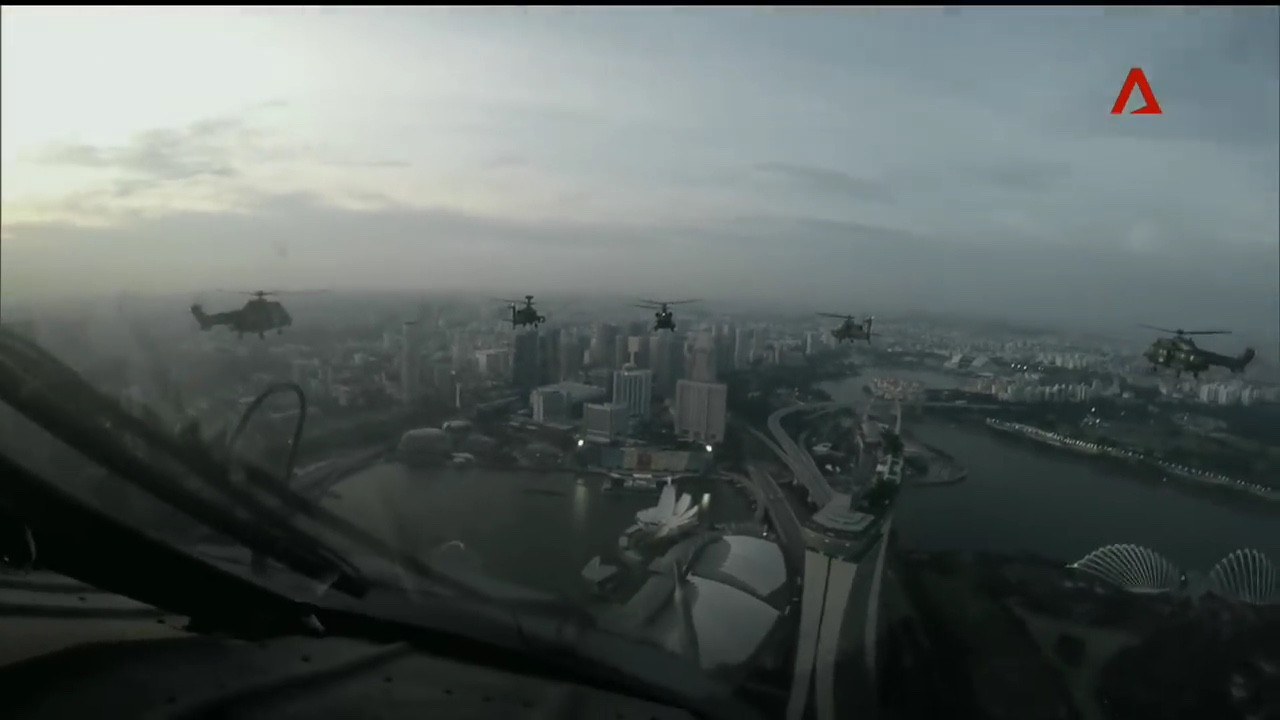ah64: (487, 288, 569, 332), (810, 307, 889, 348)
chinook: (628, 295, 705, 335)
cougar: (1132, 314, 1263, 383), (189, 282, 332, 345)
